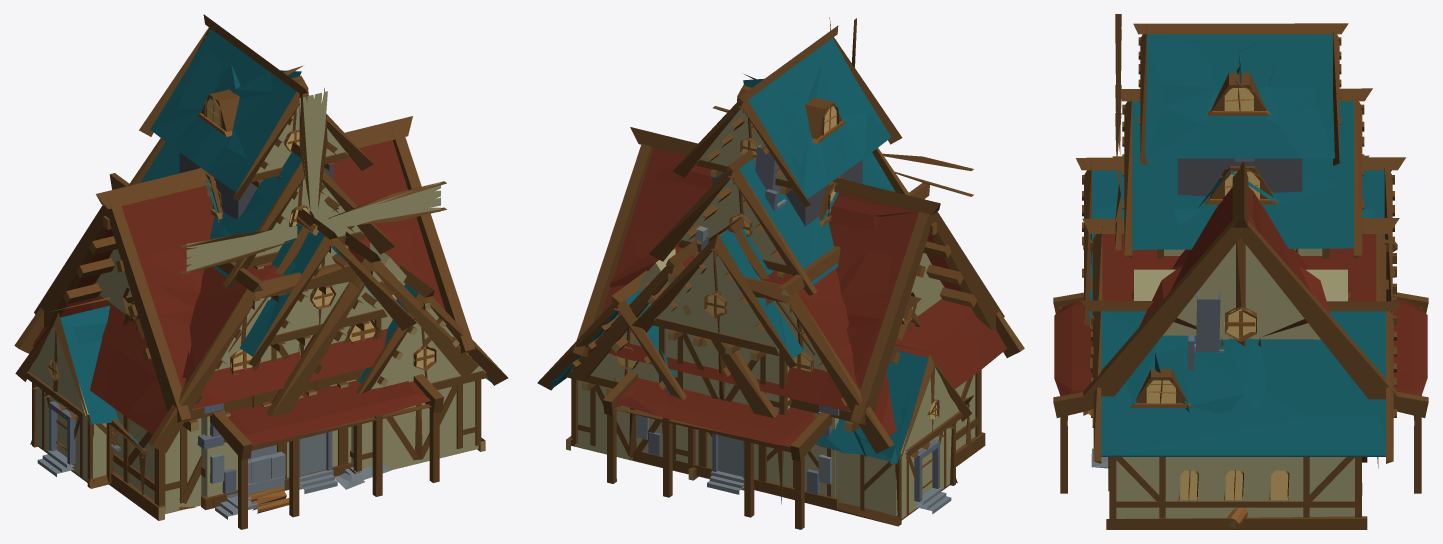
The model's file is village-pack.glb.
3 renders of one model, left to right at view 1: azimuth 30°, elevation 25°; view 2: azimuth 150°, elevation 25°; view 3: azimuth 270°, elevation 25°, orthographic. The views are drawn at different scales.
Visible parts, largest first — view 1: Inn, Stable, Sawmill, Bell_Tower, Mill, Blacksmith, House_2, House_1; view 2: Inn, Stable, Bell_Tower, Sawmill, House_2, Mill, Blacksmith, House_1; view 3: Stable, Inn, Bell_Tower, Mill, Blacksmith, House_2.
Part boxes in pixels (<box>): Inn: <box>34,116,475,529</box>; Stable: <box>15,265,508,505</box>; Sawmill: <box>14,173,357,520</box>; Bell_Tower: <box>139,14,373,219</box>; Mill: <box>128,88,446,355</box>; Blacksmith: <box>123,231,478,513</box>; House_2: <box>239,209,416,478</box>; House_1: <box>228,209,315,352</box>; Inn: <box>573,127,1004,529</box>; Stable: <box>537,270,973,526</box>; Bell_Tower: <box>672,25,902,226</box>; Sawmill: <box>712,183,1024,466</box>; House_2: <box>632,216,804,504</box>; Mill: <box>649,17,973,295</box>; Blacksmith: <box>570,226,921,418</box>; House_1: <box>728,218,814,355</box>; Stable: <box>1080,292,1401,529</box>; Inn: <box>1053,161,1428,495</box>; Bell_Tower: <box>1133,23,1348,196</box>; Mill: <box>1115,14,1372,258</box>; Blacksmith: <box>1082,218,1399,468</box>; House_2: <box>1076,157,1405,468</box>.
Bounding box in the file's own units: 4.66 × 5.06 × 3.88.
